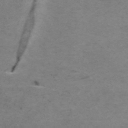finishing roll printing: (11, 0, 37, 73)
